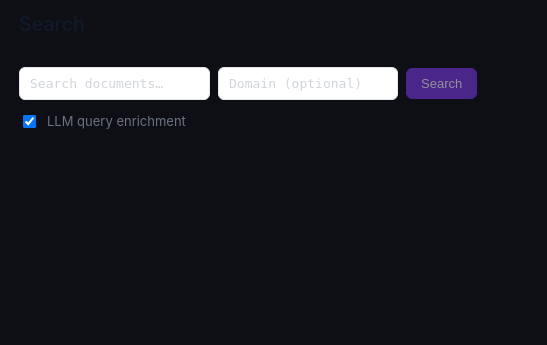
it: SearchPage › shows fallback notice when fallback_used is true
The width and height of the screenshot is (547, 345).
Type "test" into the field named "query" at (114, 84), box [19,67,210,100]
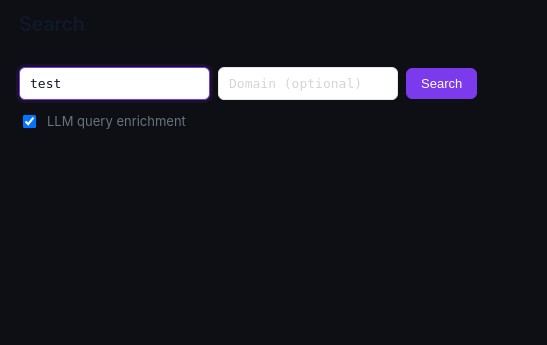
Click the button "Search" at (442, 84), box [406,68,477,99]
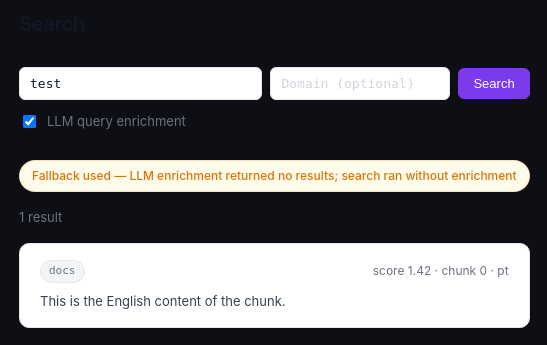
Expected: the text "Fallback" is shown, [32,168,517,182]
